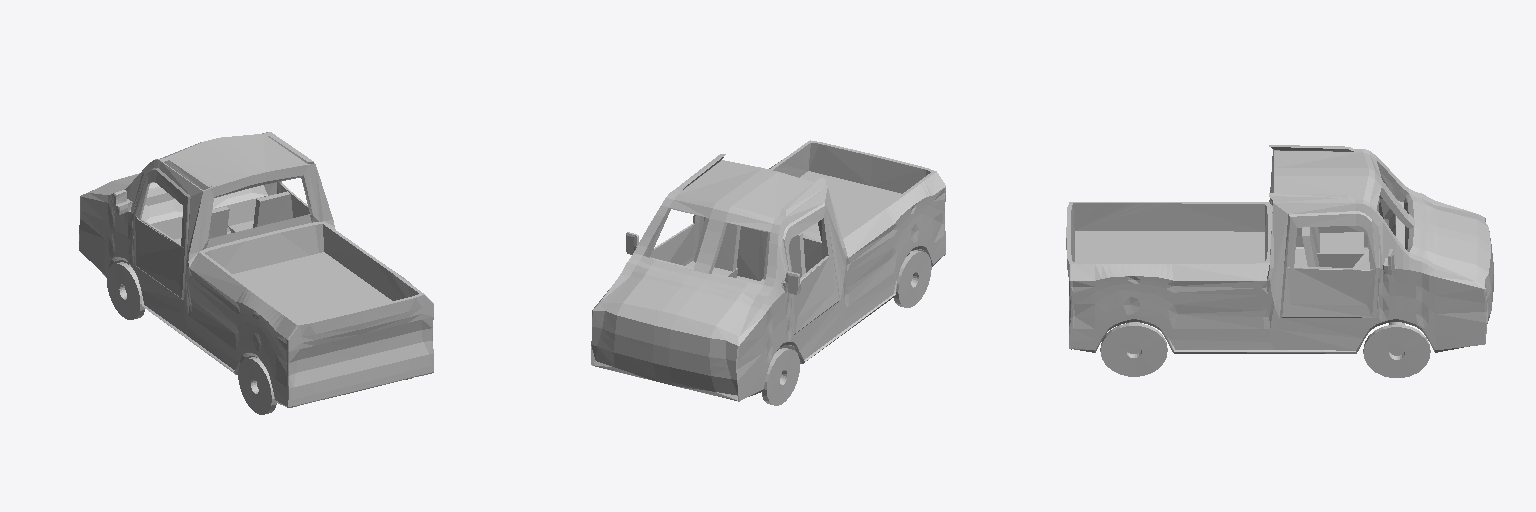
The model's file is PickupTruck.obj.
3 renders of one model, left to right at view 1: azimuth 30°, elevation 25°; view 2: azimuth 150°, elevation 25°; view 3: azimuth 270°, elevation 25°, orthographic.
Visible parts, largest first — view 1: Plane.002; view 2: Plane.002; view 3: Plane.002.
Boxes of the visible parts, x1=… form: Plane.002: x1=79, y1=132, x2=433, y2=414; Plane.002: x1=591, y1=140, x2=945, y2=405; Plane.002: x1=1066, y1=145, x2=1493, y2=377.
Bounding box in the file's own units: 1.77 × 1.68 × 3.77.